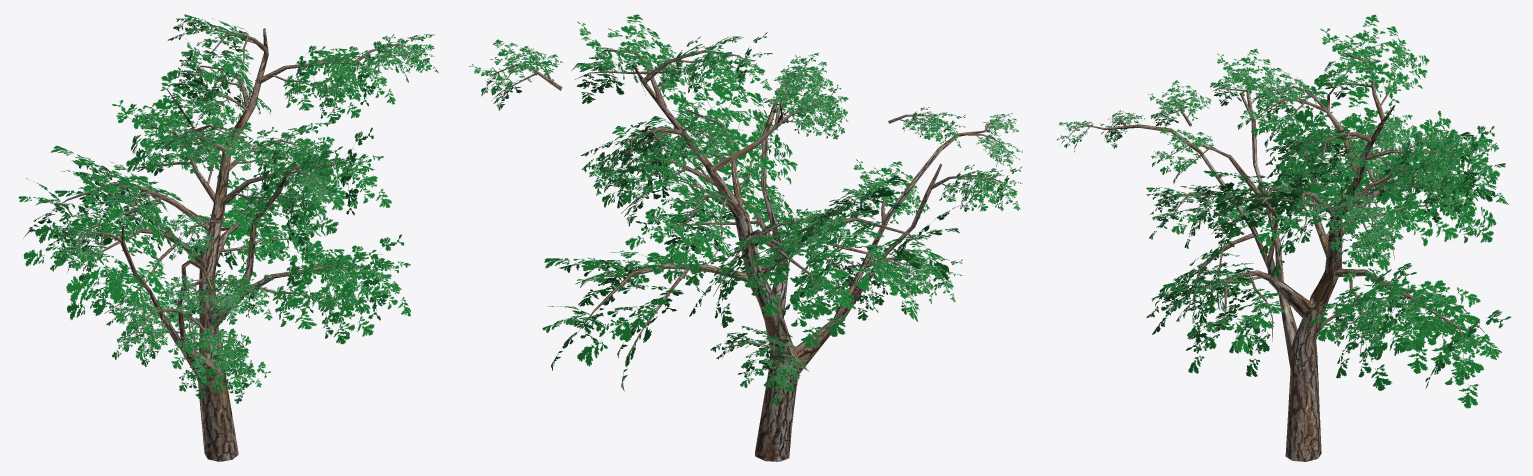
Rendered from small_tree.obj.
The picture shows the model from 3 angles, left to right: view 1: azimuth 30°, elevation 25°; view 2: azimuth 150°, elevation 25°; view 3: azimuth 270°, elevation 25°; orthographic projection. The views are drawn at different scales.
Visible parts, largest first — view 1: tree_small_joined.005; view 2: tree_small_joined.005; view 3: tree_small_joined.005.
Part boxes in pixels (box(x1,y1,x2,y2)): tree_small_joined.005: box(18, 14, 438, 461); tree_small_joined.005: box(469, 14, 1022, 461); tree_small_joined.005: box(1057, 14, 1510, 461).
Size of the model in its own units: 127 by 112 by 107.
Materials: 4 (4 with a texture image).
